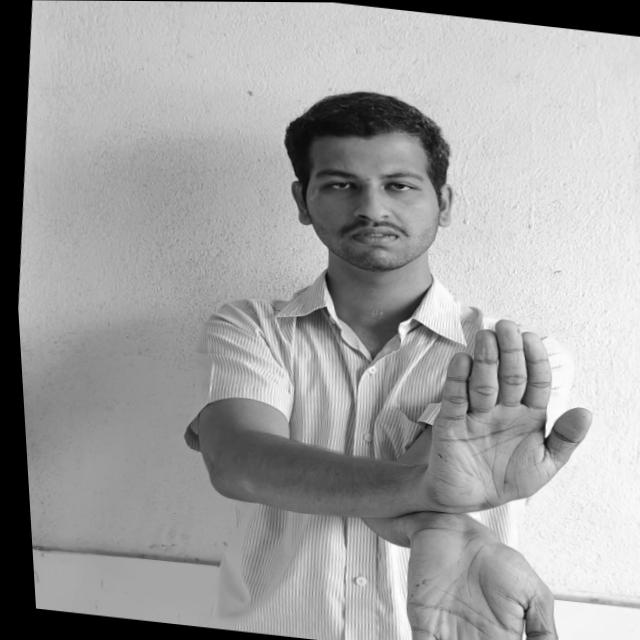Morning: (383, 306, 605, 640)
